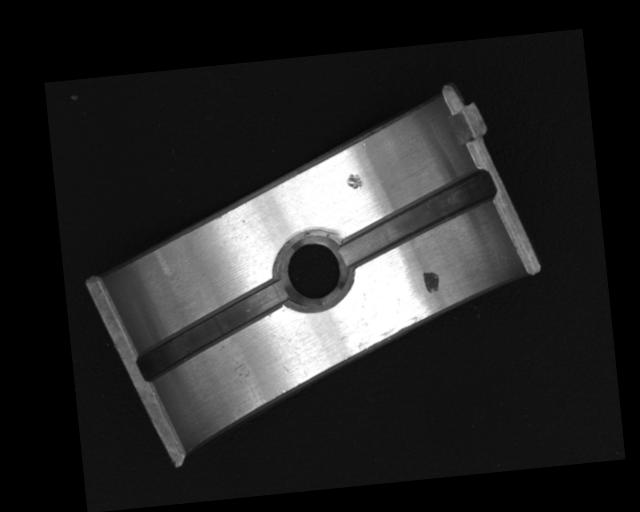blot: (421, 269, 441, 294)
bruise: (345, 171, 364, 190)
gap: (333, 167, 501, 270), (130, 278, 296, 380)
hole: (277, 228, 350, 308)
